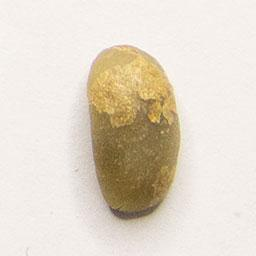longberry: (82, 41, 185, 219)
